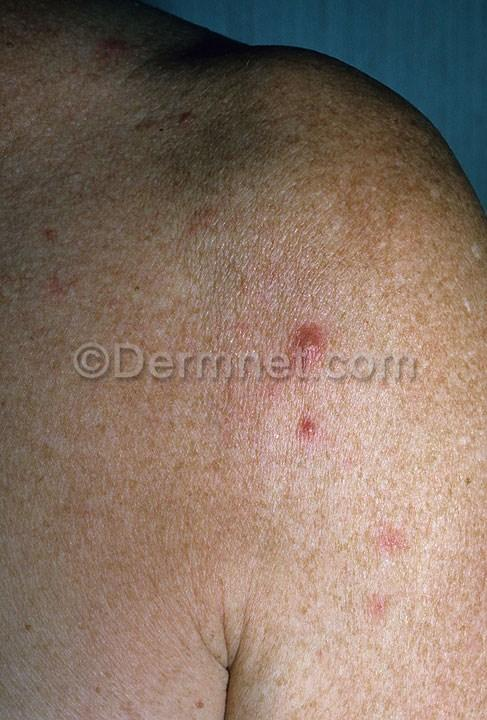Eczema: (290, 488, 422, 705), (47, 142, 225, 294), (247, 398, 375, 481), (277, 301, 350, 372)
